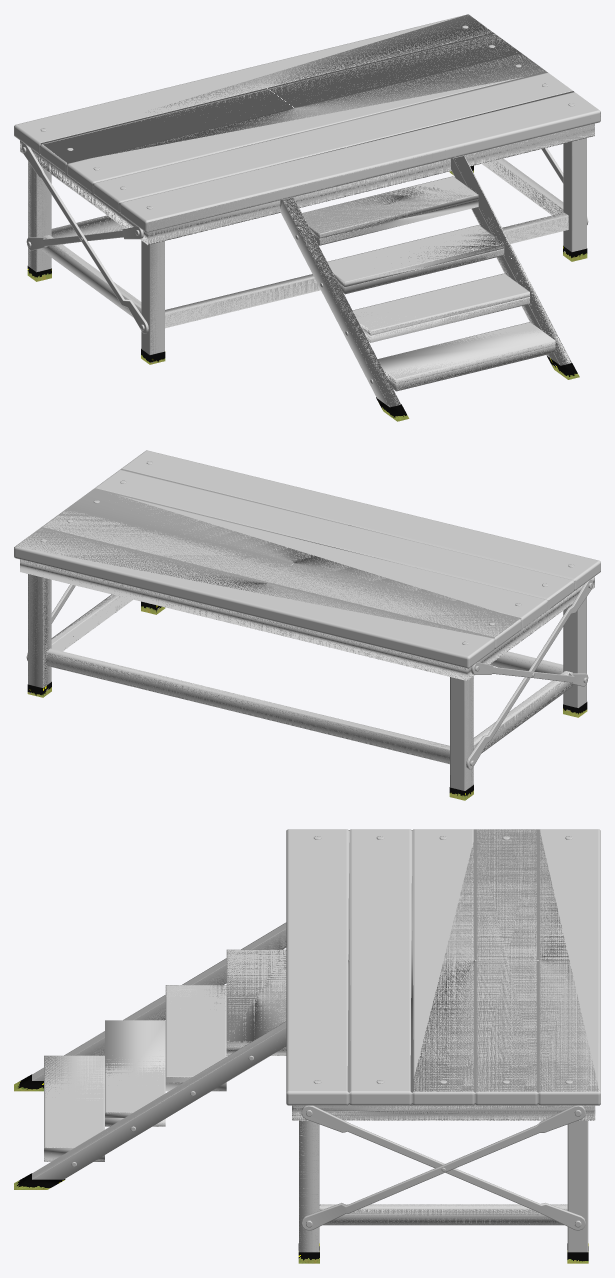
Rendered from a_sch_ground01_obj_step01.gltf.
The picture shows the model from 3 angles, top to bottom: view 1: azimuth 30°, elevation 25°; view 2: azimuth 150°, elevation 25°; view 3: azimuth 270°, elevation 25°; orthographic projection. The views are drawn at different scales.
Visible parts, largest first — view 1: um_a_sch_ground01_obj_step01_model_a_sch_ground01_obj_step01 (×2); view 2: um_a_sch_ground01_obj_step01_model_a_sch_ground01_obj_step01 (×2); view 3: um_a_sch_ground01_obj_step01_model_a_sch_ground01_obj_step01 (×2).
Boxes of the visible parts, left/top/right/bottom form: um_a_sch_ground01_obj_step01_model_a_sch_ground01_obj_step01 (×2): left=14, top=14, right=600, bottom=421; um_a_sch_ground01_obj_step01_model_a_sch_ground01_obj_step01 (×2): left=14, top=450, right=600, bottom=800; um_a_sch_ground01_obj_step01_model_a_sch_ground01_obj_step01 (×2): left=14, top=829, right=600, bottom=1263.
Size of the model in its own units: 4 by 1.26 by 3.76.
2 materials, 1 textured.
